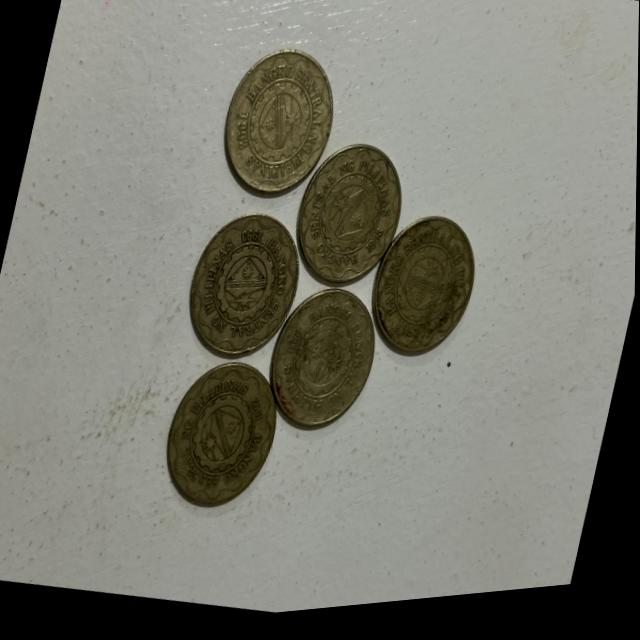5_Old_Back: (208, 45, 348, 224), (174, 202, 313, 381), (155, 355, 288, 526), (256, 274, 390, 441), (358, 211, 488, 379), (289, 144, 413, 304)
